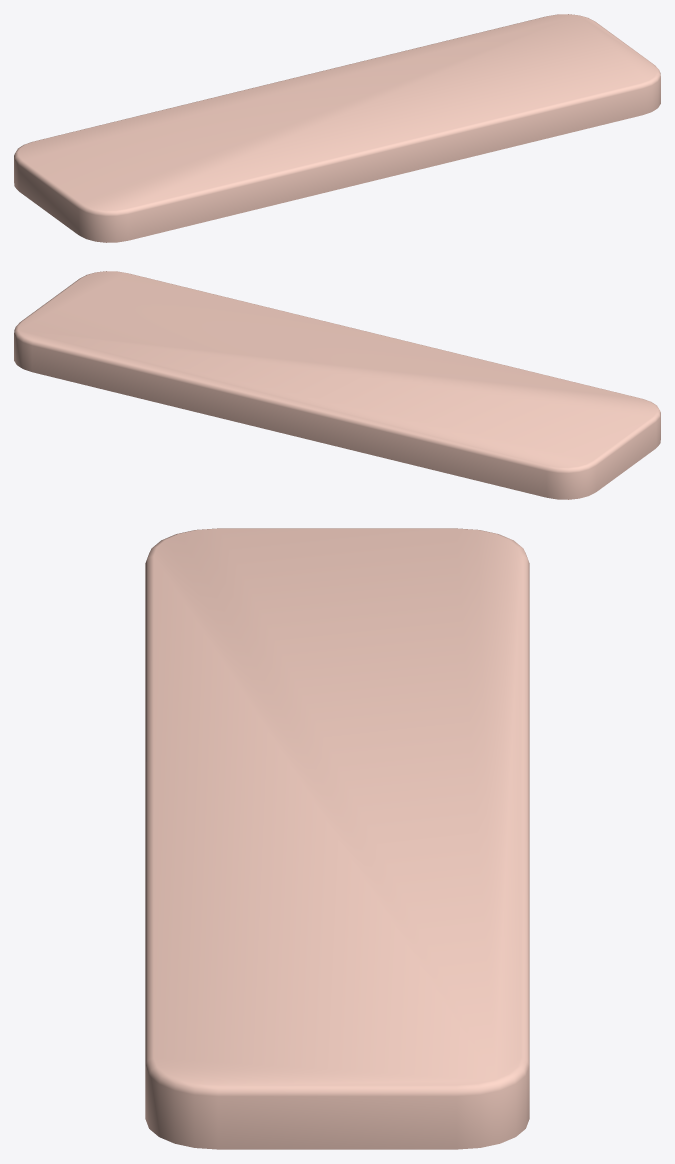
File: Mdl_Box_Base.fbx
3 views of the same model, one above another, from view 1: azimuth 30°, elevation 25°; view 2: azimuth 150°, elevation 25°; view 3: azimuth 270°, elevation 25° (orthographic). The views are drawn at different scales.
Parts seen in each view (by area): view 1: Mesh_Box_Base.002; view 2: Mesh_Box_Base.002; view 3: Mesh_Box_Base.002.
Part boxes in pixels (<box>): Mesh_Box_Base.002: <box>14,14,660,242</box>; Mesh_Box_Base.002: <box>14,271,660,499</box>; Mesh_Box_Base.002: <box>145,528,529,1149</box>.
Size of the model in its own units: 2498 by 126 by 720.
